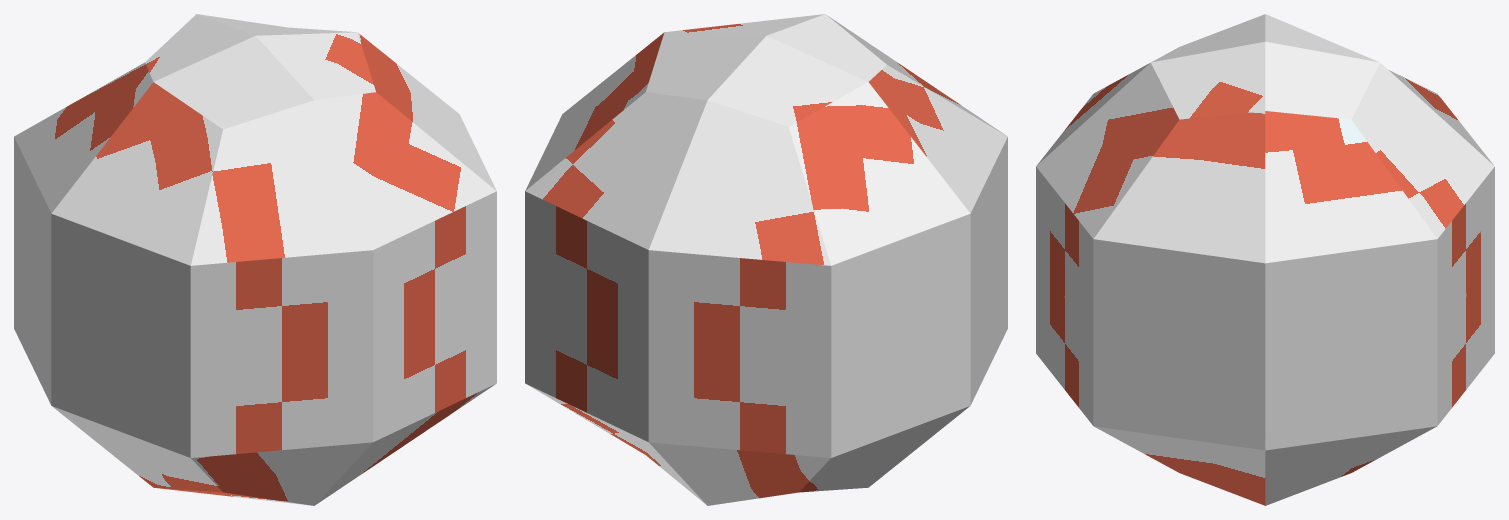
The model's file is Baseball.fbx.
3 renders of one model, left to right at view 1: azimuth 30°, elevation 25°; view 2: azimuth 150°, elevation 25°; view 3: azimuth 270°, elevation 25°, orthographic. The views are drawn at different scales.
Visible parts, largest first — view 1: Baseball; view 2: Baseball; view 3: Baseball.
Part boxes in pixels (bbox=[...]): Baseball: bbox=[14, 14, 496, 505]; Baseball: bbox=[525, 14, 1007, 505]; Baseball: bbox=[1036, 14, 1494, 505].
Bounding box in the file's own units: 25 × 26.25 × 25.
Materials: 1 (1 with a texture image).
